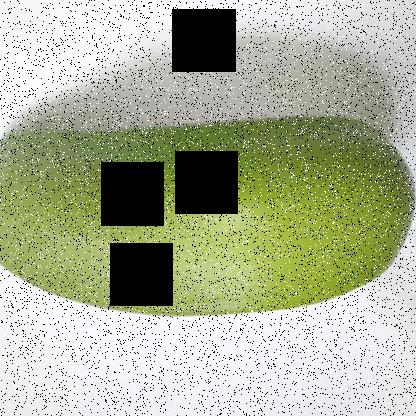freshunripe: (0, 108, 415, 329)
